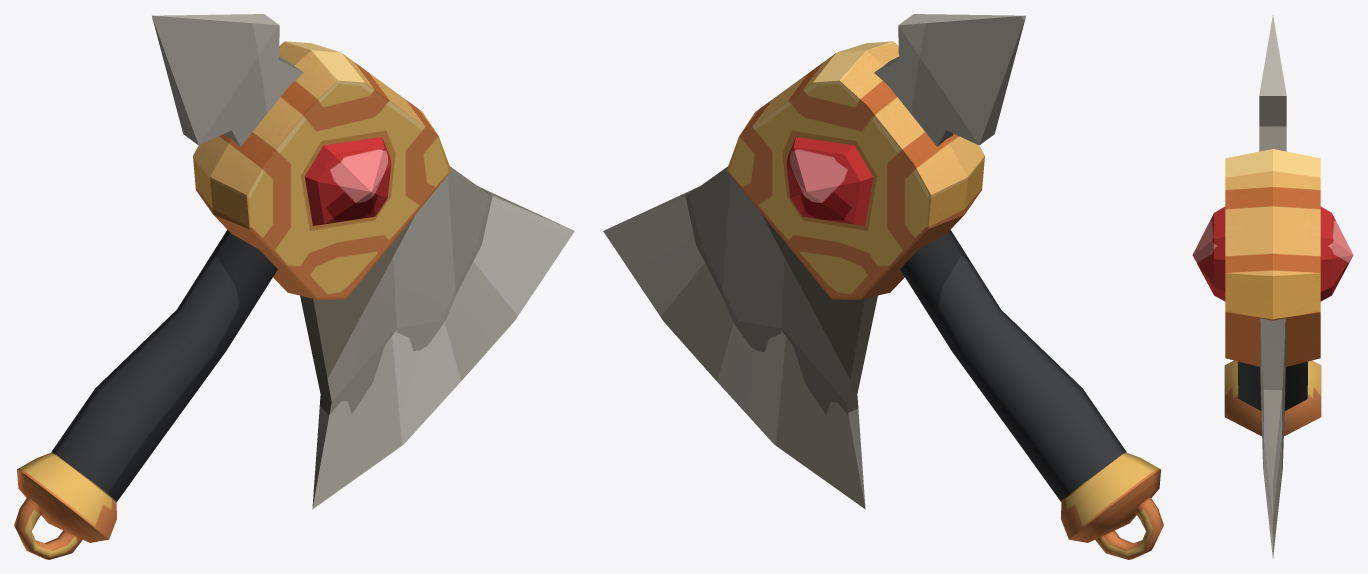
Rendered from Crazy_03.FBX.
The picture shows the model from 3 angles, left to right: view 1: azimuth 30°, elevation 25°; view 2: azimuth 150°, elevation 25°; view 3: azimuth 270°, elevation 25°; orthographic projection. The views are drawn at different scales.
Parts seen in each view (by area): view 1: Crazy_03; view 2: Crazy_03; view 3: Crazy_03.
Part boxes in pixels (<box>): Crazy_03: <box>14,14,574,559</box>; Crazy_03: <box>603,14,1163,559</box>; Crazy_03: <box>1192,15,1353,557</box>.
Size of the model in its own units: 76.45 by 69.67 by 21.44.
